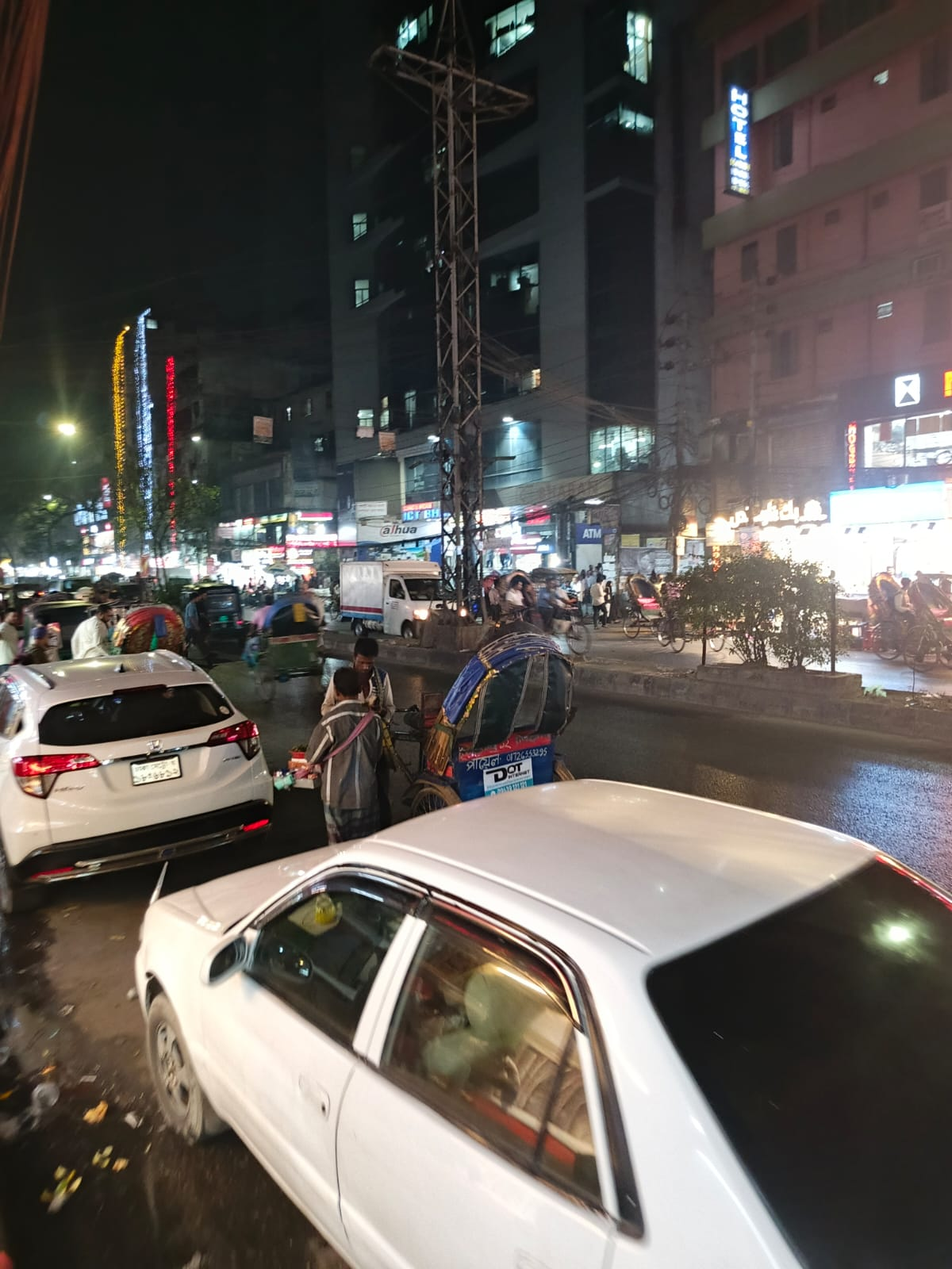private car: (119, 747, 952, 1269), (0, 641, 281, 896)
